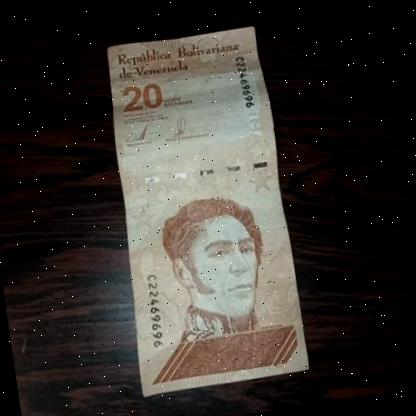vef_front: (82, 22, 320, 400)
